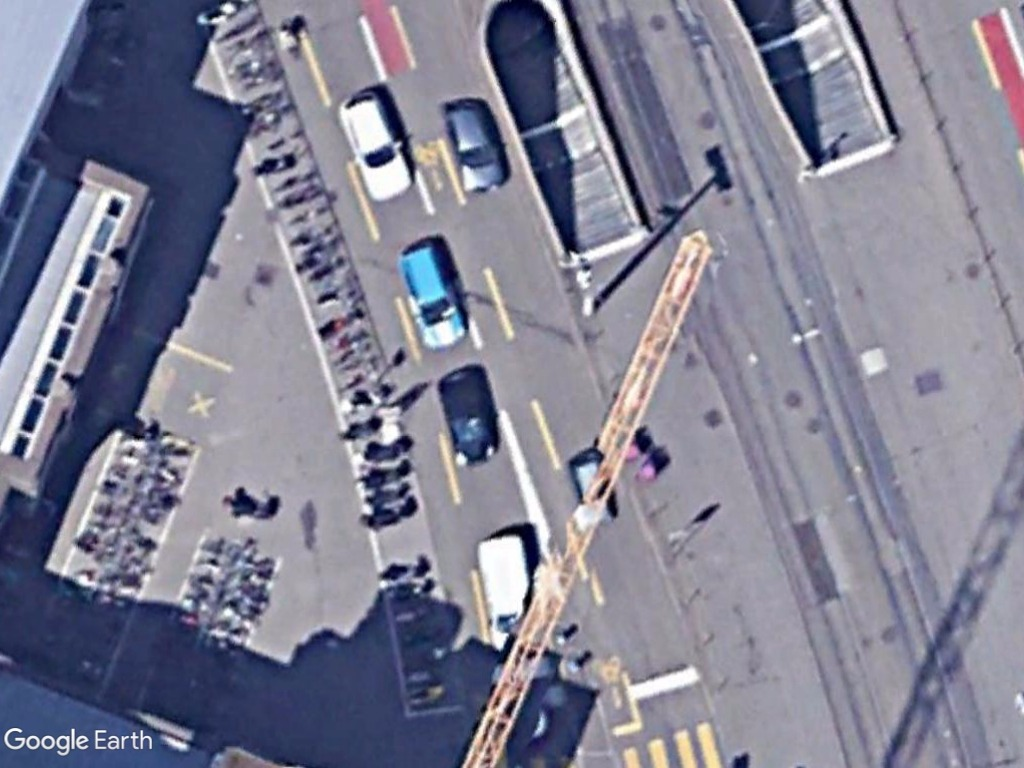car: (337, 86, 416, 209), (396, 241, 468, 354), (442, 98, 512, 199)
